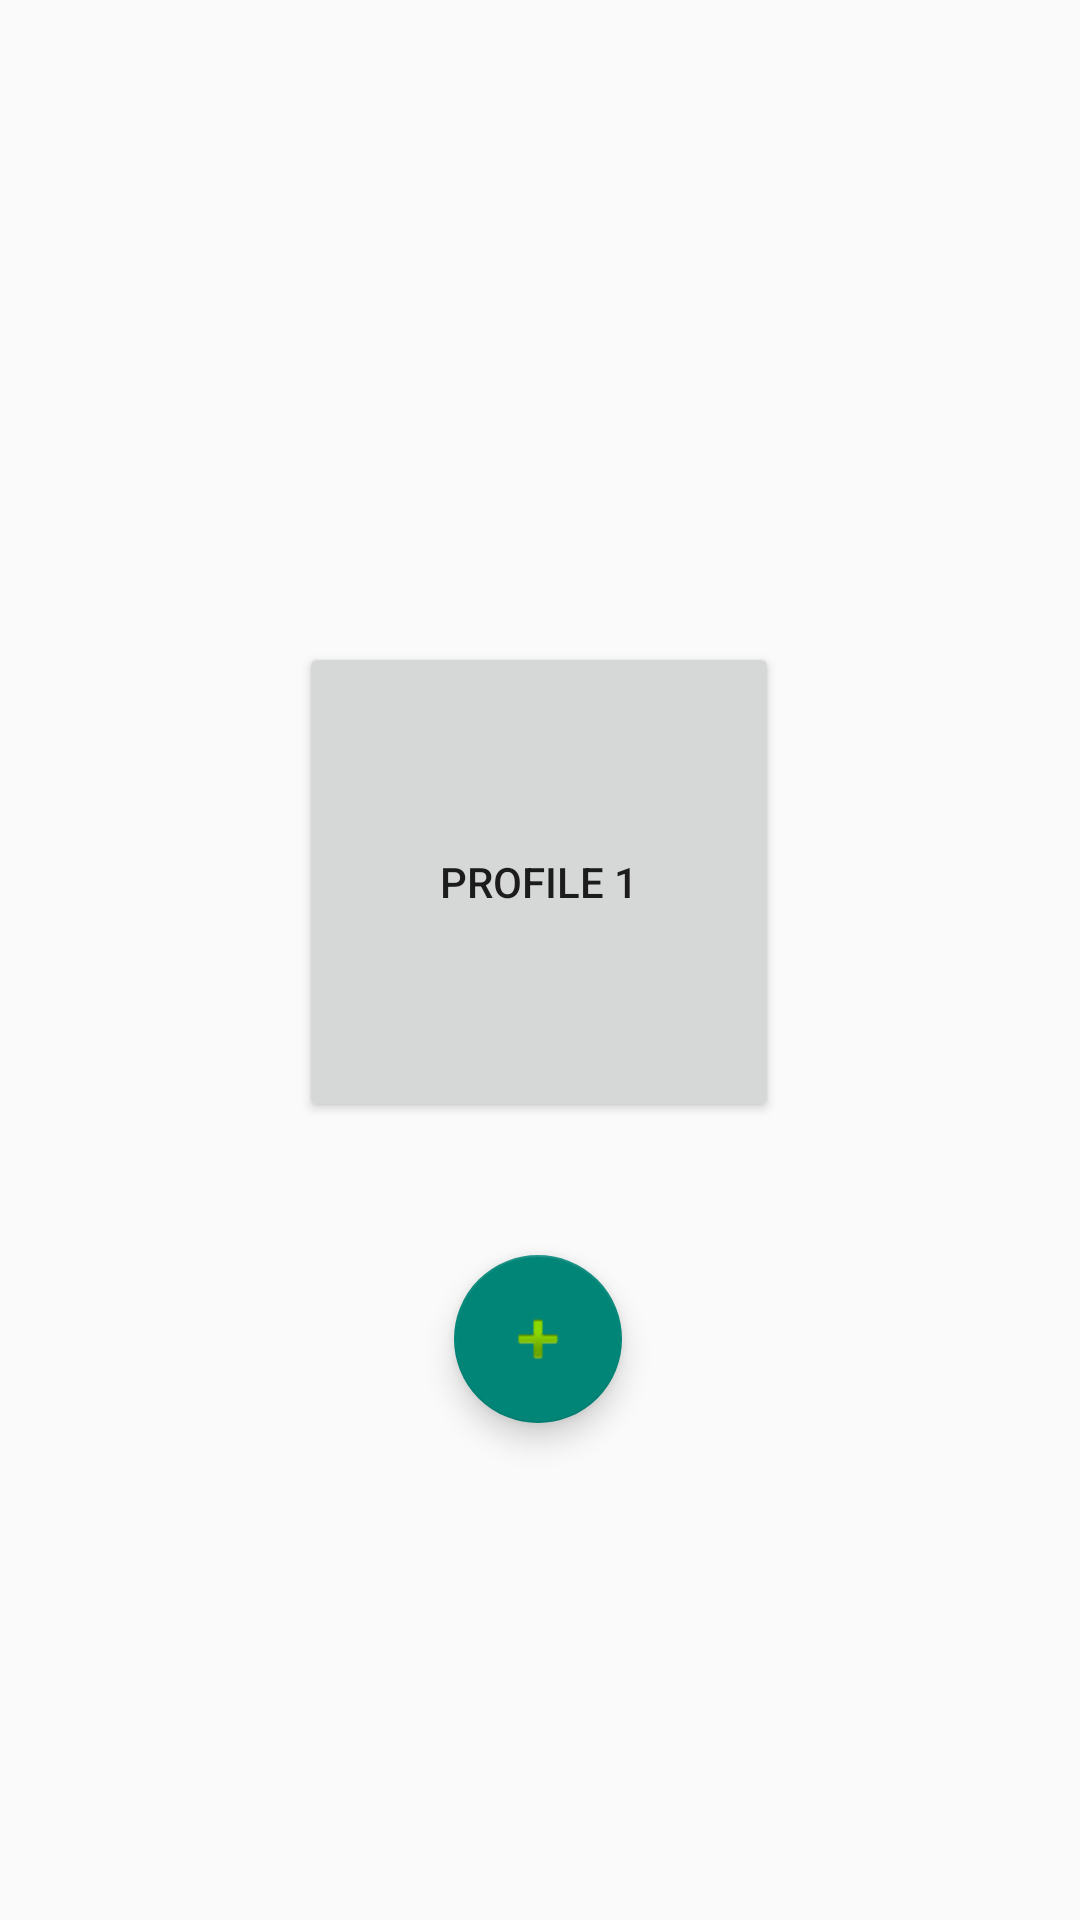

Icon bounding boxes for this 1080 × 1920 phone screenshot, format (x1, y1, x2, y2):
add: (454, 1255, 622, 1423)
